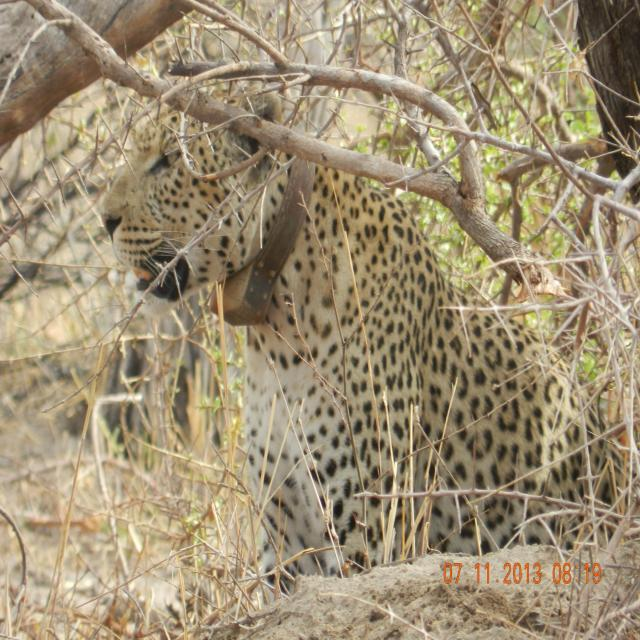Leopard: (99, 127, 635, 592)
